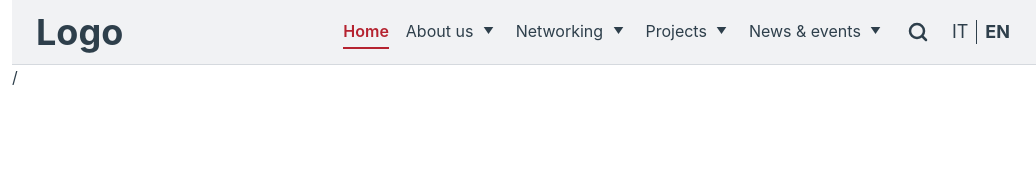
Test: dropdown items scroll targets (en) › /networking › clicking "Partners" navigates to the page with its #hash and closes the dropdown
The width and height of the screenshot is (1036, 183).
Click the button named "Networking submenu": [618, 31] box [608,19,628,43]
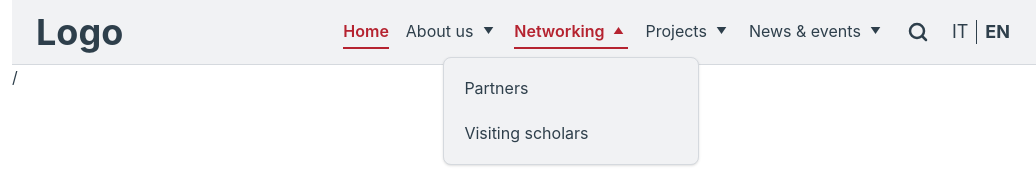
Click the link "Partners": [496, 88] box [464,78,528,98]
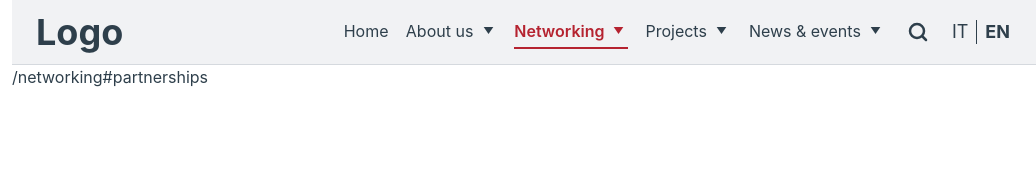
Now the text with test id "location" reads "/networking#partnerships", box [12,67,208,87]
